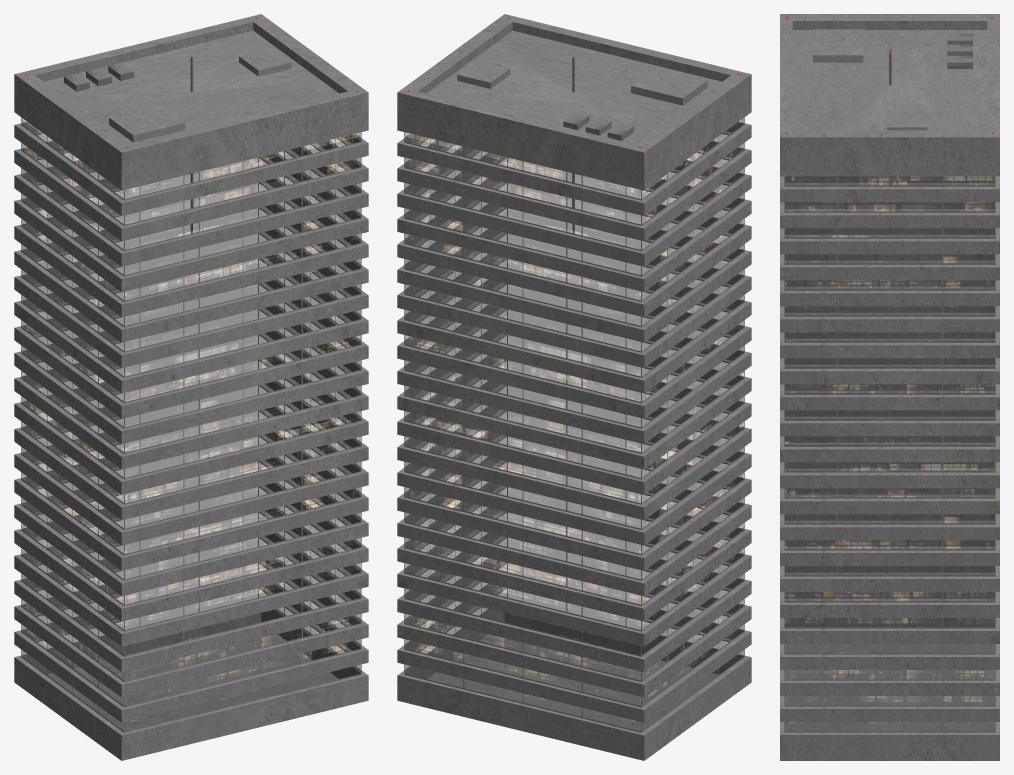
File: brutalist-skyscraper-4.glb
The picture shows the model from 3 angles, left to right: view 1: azimuth 30°, elevation 25°; view 2: azimuth 150°, elevation 25°; view 3: azimuth 270°, elevation 25°; orthographic projection. The views are drawn at different scales.
Visible parts, largest first — view 1: brutalist-skyscraper-1.008; view 2: brutalist-skyscraper-1.008; view 3: brutalist-skyscraper-1.008.
Part boxes in pixels (x1,y1,x2,y2): brutalist-skyscraper-1.008: (14, 14, 368, 760); brutalist-skyscraper-1.008: (397, 14, 751, 760); brutalist-skyscraper-1.008: (780, 14, 999, 760).
Size of the model in its own units: 41.25 by 101 by 31.02.
Materials: 5 (4 with a texture image).
